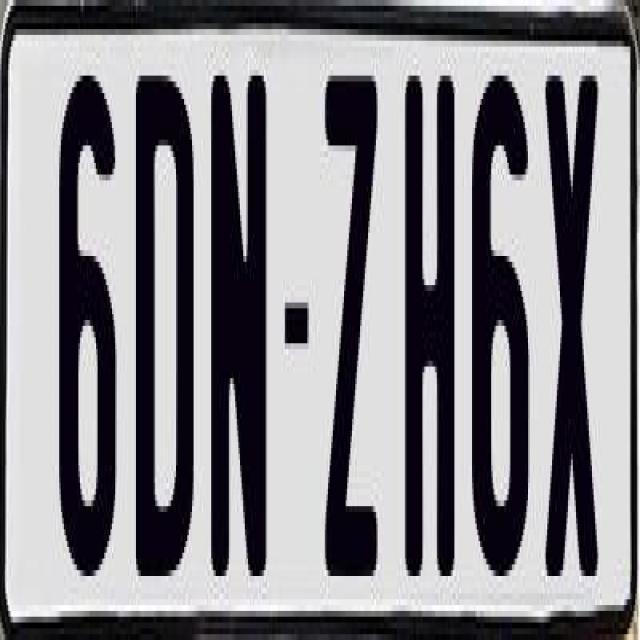6: (467, 75, 525, 588), (56, 76, 114, 582)
D: (136, 70, 200, 594)
H: (400, 70, 456, 576)
N: (210, 70, 270, 606)
X: (540, 70, 596, 576)
Z: (324, 58, 378, 570)
